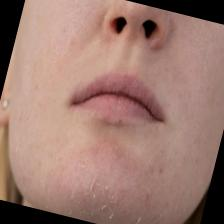Dry: (14, 0, 224, 224)
